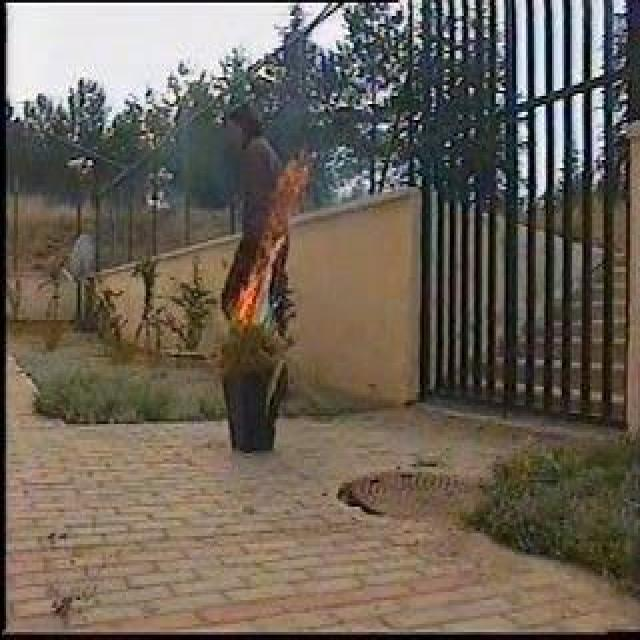fire: (229, 163, 308, 332)
